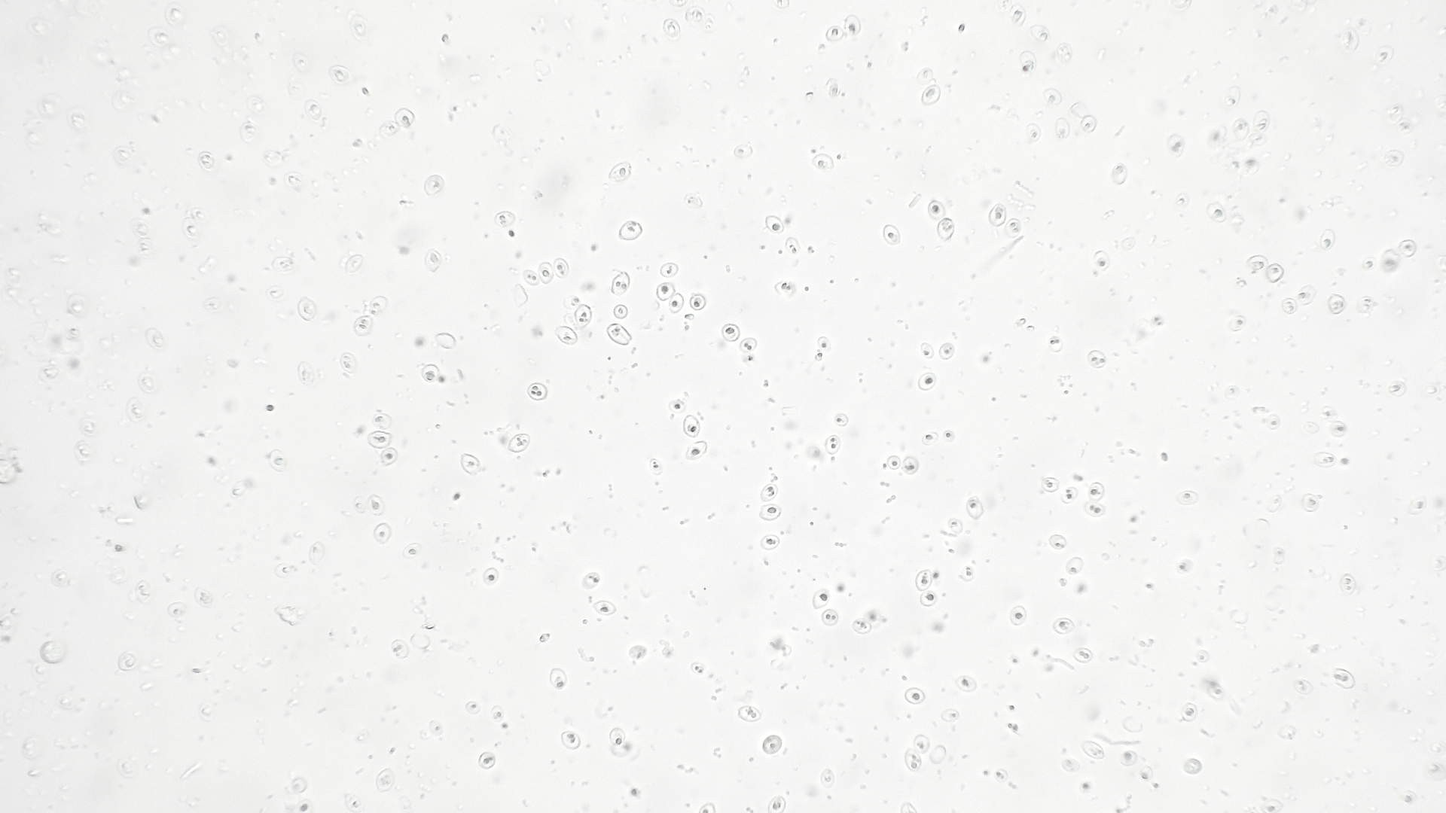yeast: (1329, 665, 1357, 693), (917, 84, 948, 109), (759, 733, 786, 761), (421, 172, 447, 200), (394, 105, 419, 134), (607, 272, 632, 299), (660, 14, 685, 41), (552, 325, 580, 349), (1078, 738, 1106, 762), (269, 446, 291, 476), (606, 324, 632, 349), (618, 219, 645, 243), (456, 452, 483, 476), (735, 704, 764, 726), (297, 294, 319, 323), (809, 151, 834, 176), (351, 314, 377, 338), (196, 151, 222, 175), (372, 767, 395, 794), (780, 233, 803, 260), (607, 162, 638, 182), (1372, 43, 1396, 68), (365, 430, 395, 450), (1252, 113, 1276, 138), (547, 667, 569, 694), (756, 504, 785, 524), (880, 222, 903, 247), (1203, 199, 1226, 224), (901, 452, 923, 478), (953, 674, 979, 696), (1109, 162, 1128, 192), (339, 350, 360, 377), (295, 358, 316, 385), (764, 211, 784, 239), (1063, 555, 1087, 578), (1086, 347, 1109, 371), (985, 202, 1008, 226), (507, 433, 532, 455), (1028, 23, 1054, 44), (424, 249, 445, 275), (901, 687, 929, 706), (1089, 249, 1111, 273), (1325, 292, 1347, 316), (387, 638, 412, 659), (1166, 131, 1187, 156), (1084, 478, 1104, 504), (368, 493, 388, 519), (419, 361, 439, 387), (688, 291, 711, 313), (1040, 86, 1063, 108), (685, 440, 709, 461), (964, 494, 982, 522), (850, 617, 874, 638), (1053, 616, 1077, 637), (1299, 492, 1323, 513), (1024, 121, 1045, 145), (194, 586, 215, 610), (682, 415, 702, 440), (811, 586, 831, 611), (1081, 499, 1106, 519), (490, 209, 519, 226), (1171, 489, 1200, 506), (902, 748, 920, 775), (573, 303, 591, 330), (1397, 236, 1419, 258), (560, 729, 581, 752), (935, 218, 956, 241), (401, 538, 422, 561), (593, 598, 617, 618), (1179, 702, 1199, 726), (1266, 260, 1286, 284), (377, 448, 401, 468), (1008, 604, 1027, 629), (1310, 449, 1335, 468), (373, 521, 392, 546), (718, 323, 740, 344), (578, 570, 599, 592), (757, 482, 777, 505), (915, 371, 938, 391), (652, 282, 676, 301), (666, 291, 685, 315), (822, 433, 841, 457), (764, 794, 788, 813), (1338, 571, 1357, 595), (822, 25, 846, 44), (1039, 474, 1060, 495), (926, 199, 947, 220), (1116, 748, 1137, 769), (1387, 379, 1409, 399), (481, 565, 500, 588), (818, 767, 837, 790), (165, 601, 188, 620), (914, 568, 932, 592), (553, 255, 570, 280), (1070, 647, 1095, 664), (732, 143, 757, 160), (477, 751, 498, 771), (957, 564, 978, 584), (1058, 484, 1079, 504), (1406, 495, 1427, 515), (526, 381, 545, 403), (757, 533, 779, 552), (1292, 678, 1314, 697), (609, 726, 627, 749), (1227, 315, 1250, 333), (1298, 284, 1317, 305), (536, 262, 554, 284), (917, 591, 939, 609), (1047, 534, 1069, 552), (830, 412, 854, 428), (1319, 227, 1335, 251), (1003, 219, 1023, 238), (912, 732, 927, 757), (821, 606, 838, 628), (488, 704, 505, 726), (667, 397, 686, 416), (1045, 336, 1065, 354), (939, 340, 956, 361), (919, 431, 940, 448), (647, 456, 664, 477), (1280, 295, 1297, 316), (660, 261, 679, 279), (940, 707, 961, 723), (883, 455, 901, 473), (688, 659, 706, 677), (947, 517, 964, 536), (369, 293, 386, 312), (919, 340, 934, 361), (520, 268, 537, 286), (1330, 420, 1347, 438), (464, 699, 482, 716), (1080, 113, 1095, 133), (612, 303, 627, 321), (817, 334, 830, 354), (993, 769, 1009, 785), (941, 428, 955, 443), (740, 338, 757, 350)
